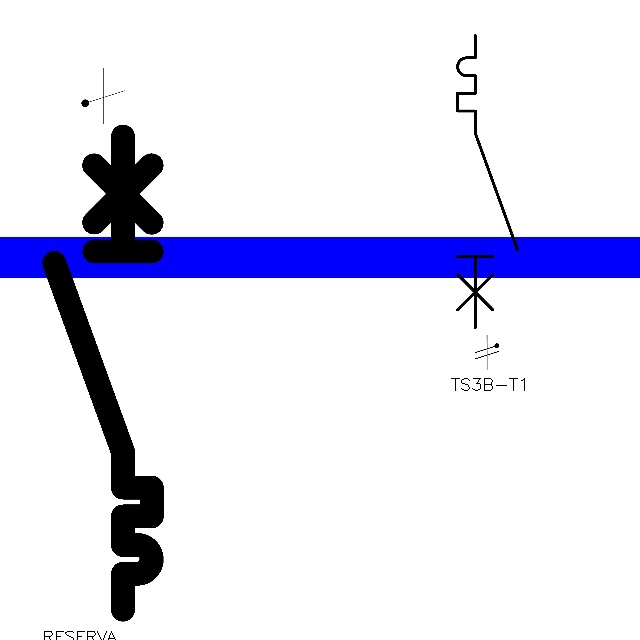interruptor_termomagnetico: (42, 124, 164, 622), (450, 28, 525, 335)
